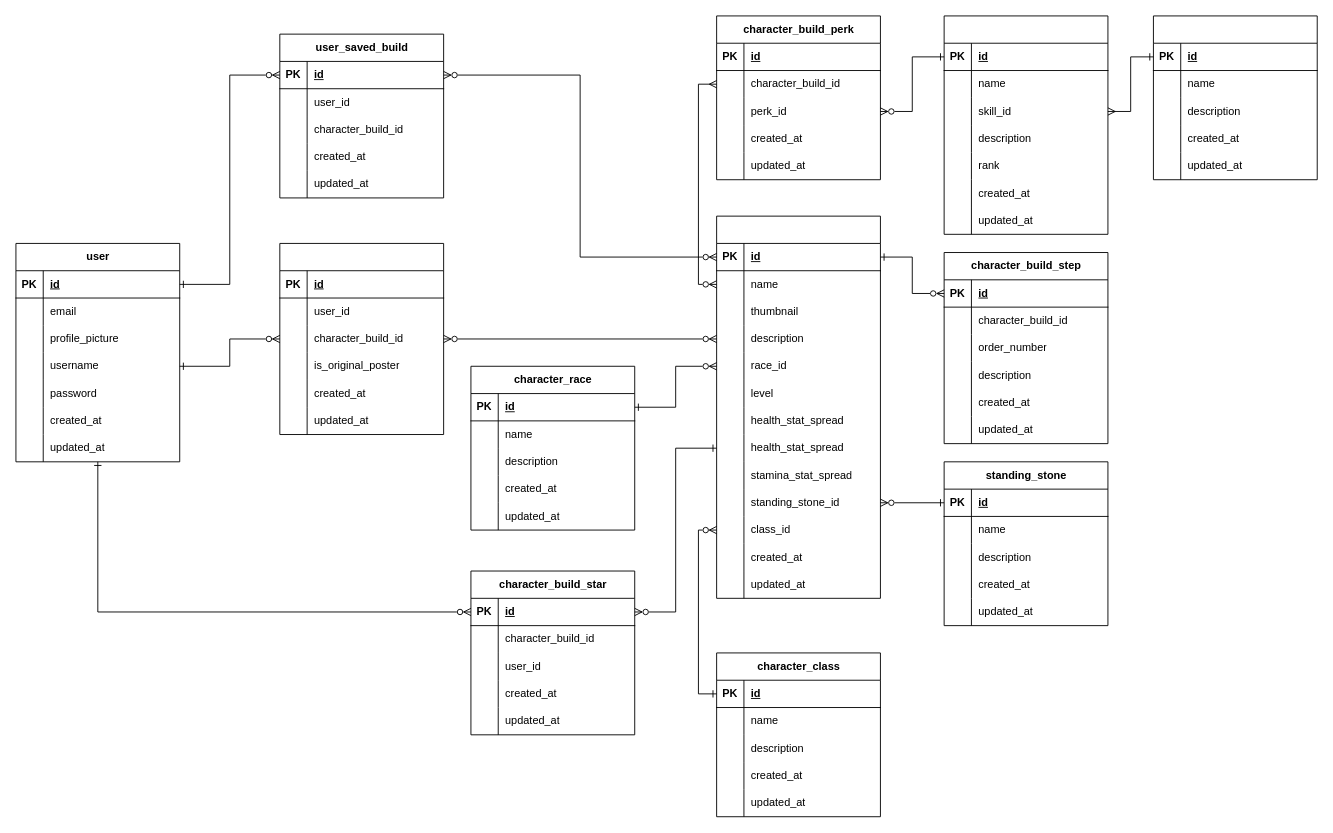
This 1333x833 diagram has some shape labels left out. Each missing label, with the box of its shape:
character_build: (716, 215, 880, 598)
character_build_owner: (279, 243, 444, 435)
perk: (943, 15, 1108, 234)
skill: (1153, 15, 1317, 180)
